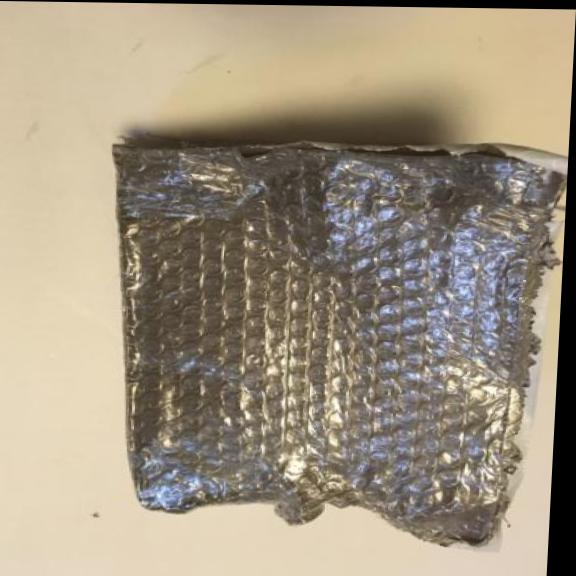Plastik: (84, 128, 569, 553)
